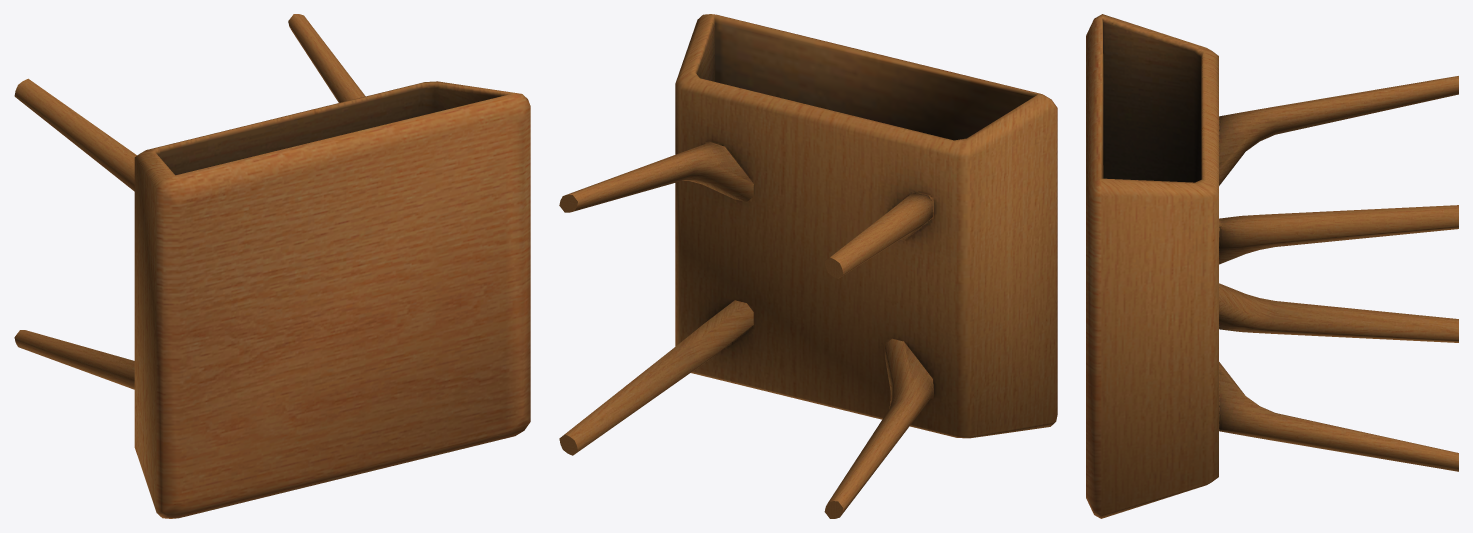
File: endtable.obj
3 views of the same model, side by side, from view 1: azimuth 30°, elevation 25°; view 2: azimuth 150°, elevation 25°; view 3: azimuth 270°, elevation 25° (orthographic). The views are drawn at different scales.
Visible parts, largest first — view 1: SubEndtable:8; view 2: SubEndtable:8; view 3: SubEndtable:8.
Boxes of the visible parts, x1=… form: SubEndtable:8: x1=14, y1=14, x2=530, y2=518; SubEndtable:8: x1=559, y1=14, x2=1057, y2=518; SubEndtable:8: x1=1086, y1=14, x2=1458, y2=518.
Bounding box in the file's own units: 42.81 × 37.83 × 37.83.
